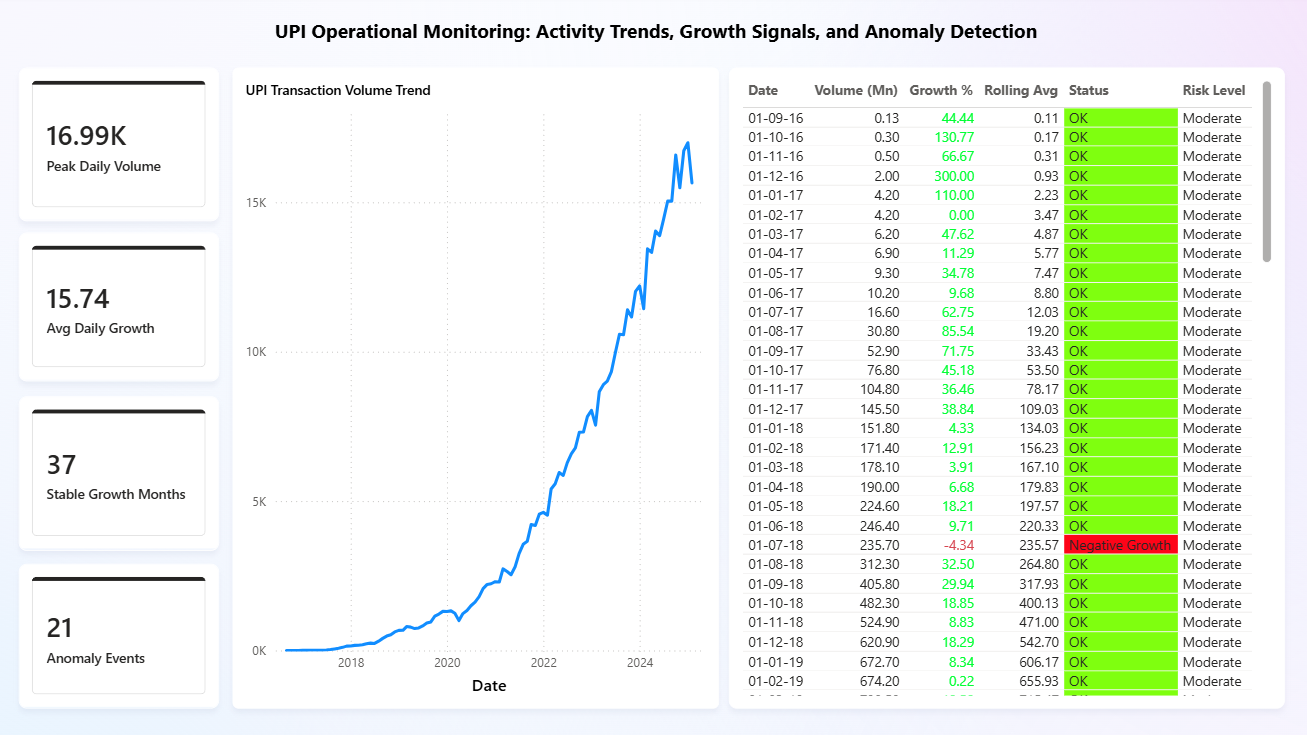

Layout of this report page (visuals, bound fields, positions):
{"tool":"powerbi","page":{"name":"Operational Monitoring Dashboard","canvas":[1280,720],"ordinal":5},"visuals":[{"type":"textbox","box":[256.1,12.2,767.1,40.2],"z":0},{"type":"cardVisual","fields":{"Data":["Monthly Growth.Avg Daily Growth"]},"box":[18.3,227.6,196.2,145.7],"z":1000},{"type":"cardVisual","fields":{"Data":["Monthly Growth.Anomaly Events"]},"box":[18.3,551.9,196.2,141.9],"z":2000},{"type":"cardVisual","fields":{"Data":["Monthly Growth.Peak Daily Volume"]},"box":[18.3,65.7,196.2,150],"z":3000},{"type":"cardVisual","fields":{"Data":["Monthly Growth.Stable Months"]},"box":[18.3,387.1,196.2,151],"z":4000},{"type":"lineChart","title":"UPI Transaction Volume Trend","fields":{"Category":["Monthly Growth.Date"],"Y":["Sum(Monthly Growth.volume_millions)"]},"box":[227.4,66,475.7,627.3],"z":5000},{"type":"tableEx","fields":{"Values":["Monthly Growth.Date","Monthly Growth.volume_millions","Monthly Growth.mom_growth_pct","Monthly Growth.rolling_3mo_avg","Monthly Growth.anomaly_flag","Monthly Growth.Risk Tag"]},"box":[712.9,66,544.2,627.3],"z":6000}]}

Visuals, with their boxes in screenshot pixels (x1, y1, x2, y2), scaled from the page's 1280x720 canvas onto the 1307x735 screenshot:
textbox: bbox=[262, 12, 1045, 53]
cardVisual - Monthly Growth.Avg Daily Growth: bbox=[19, 232, 219, 381]
cardVisual - Monthly Growth.Anomaly Events: bbox=[19, 563, 219, 708]
cardVisual - Monthly Growth.Peak Daily Volume: bbox=[19, 67, 219, 220]
cardVisual - Monthly Growth.Stable Months: bbox=[19, 395, 219, 549]
"UPI Transaction Volume Trend" lineChart: bbox=[232, 67, 718, 708]
tableEx - Monthly Growth.Date x Monthly Growth.volume_millions: bbox=[728, 67, 1284, 708]
